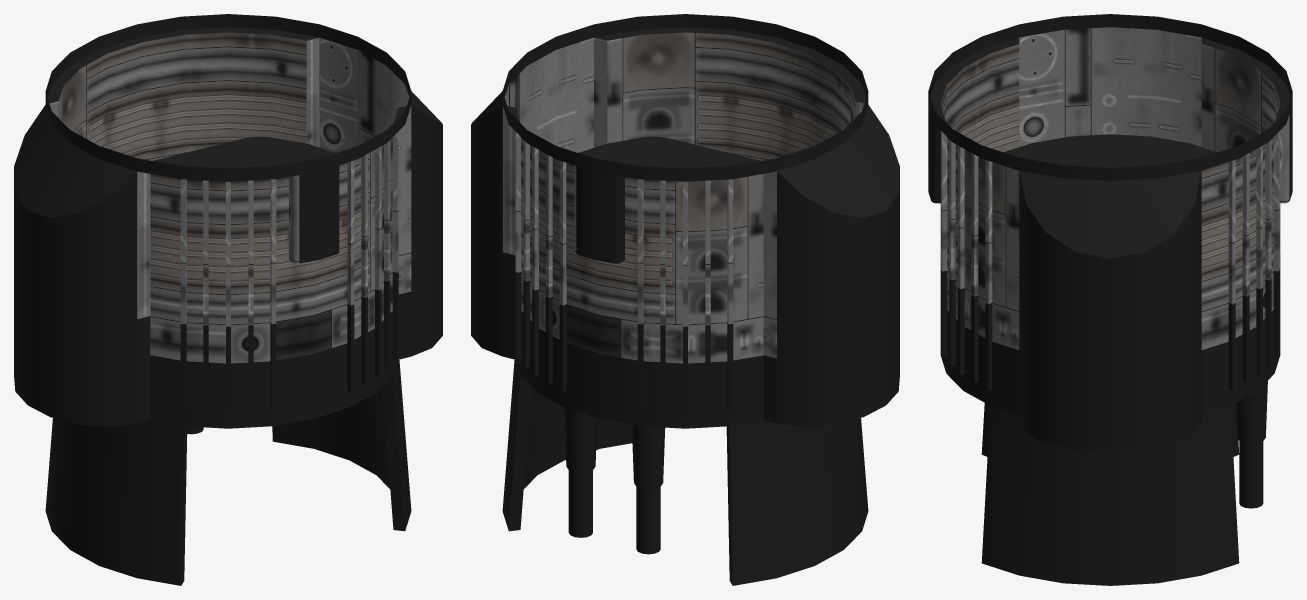
Rendered from blue_streak_engine_mount_s1p5_1.obj.
3 renders of one model, left to right at view 1: azimuth 30°, elevation 25°; view 2: azimuth 150°, elevation 25°; view 3: azimuth 270°, elevation 25°, orthographic.
Parts seen in each view (by area): view 1: mesh1, side1, skirt1; view 2: mesh1, side1, skirt1; view 3: mesh1, side1, skirt1.
Boxes of the visible parts, x1,y1,x2,y2 form: mesh1: (45,14,411,434); side1: (14,91,442,426); skirt1: (45,359,411,585); mesh1: (502,14,868,554); side1: (471,91,899,426); skirt1: (502,359,868,585); mesh1: (928,14,1292,508); side1: (1019,171,1201,452); skirt1: (981,403,1239,585).
Bounding box in the file's own units: 2.37 × 2.38 × 1.88.
